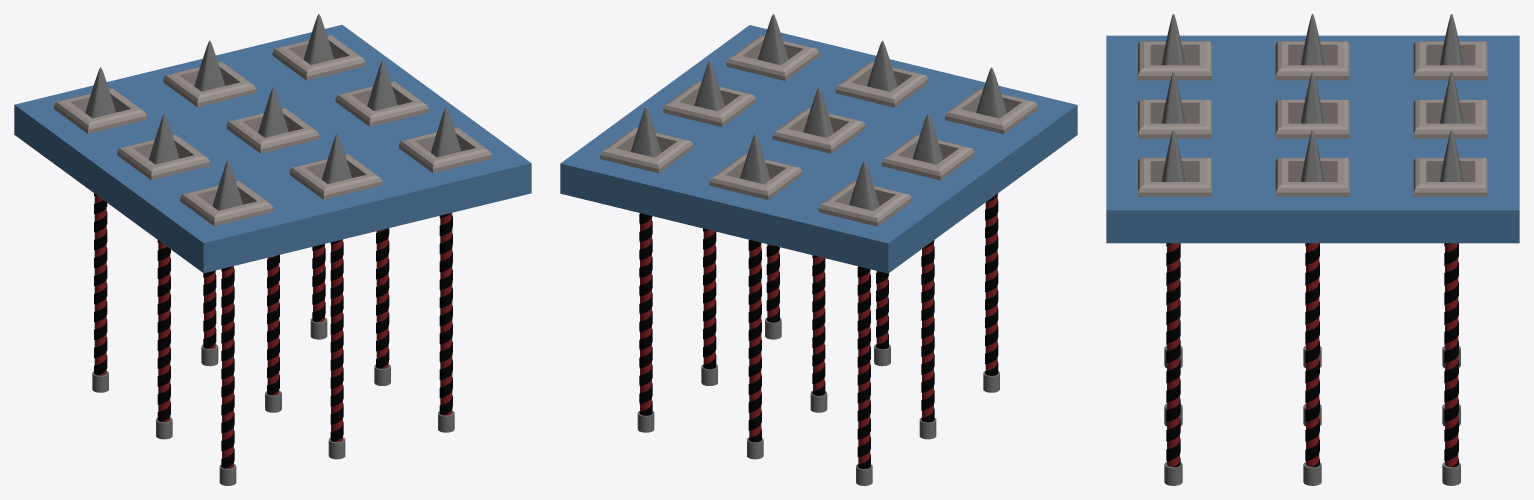
File: mizrakengel.fbx
3 renders of one model, left to right at view 1: azimuth 30°, elevation 25°; view 2: azimuth 150°, elevation 25°; view 3: azimuth 270°, elevation 25°, orthographic. The views are drawn at different scales.
Parts seen in each view (by area): view 1: Cube.001, Cylinder.002; view 2: Cube.001, Cylinder.002; view 3: Cube.001, Cylinder.002.
Boxes of the visible parts, box(x1,y1,x2,y2) form: Cube.001: box(14, 25, 531, 273); Cylinder.002: box(85, 14, 461, 485); Cube.001: box(560, 25, 1077, 273); Cylinder.002: box(631, 14, 1006, 485); Cube.001: box(1106, 35, 1519, 243); Cylinder.002: box(1161, 14, 1463, 485).
Bounding box in the file's own units: 2764 × 2593 × 2764.
